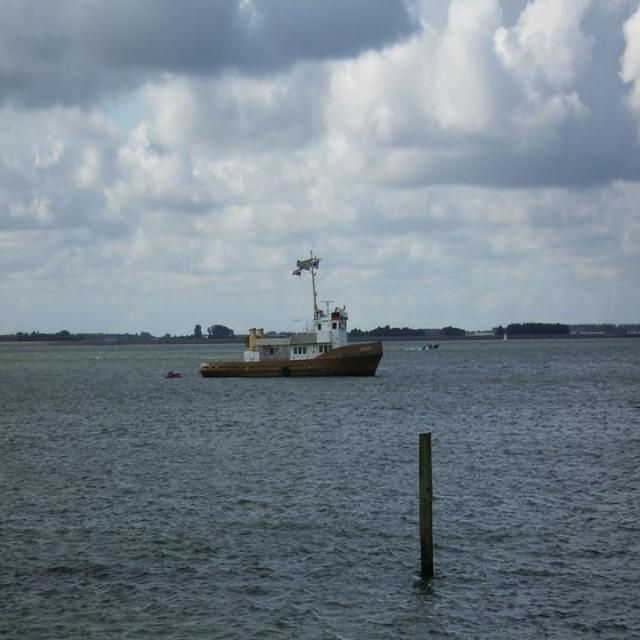houseboat: (205, 254, 381, 398)
